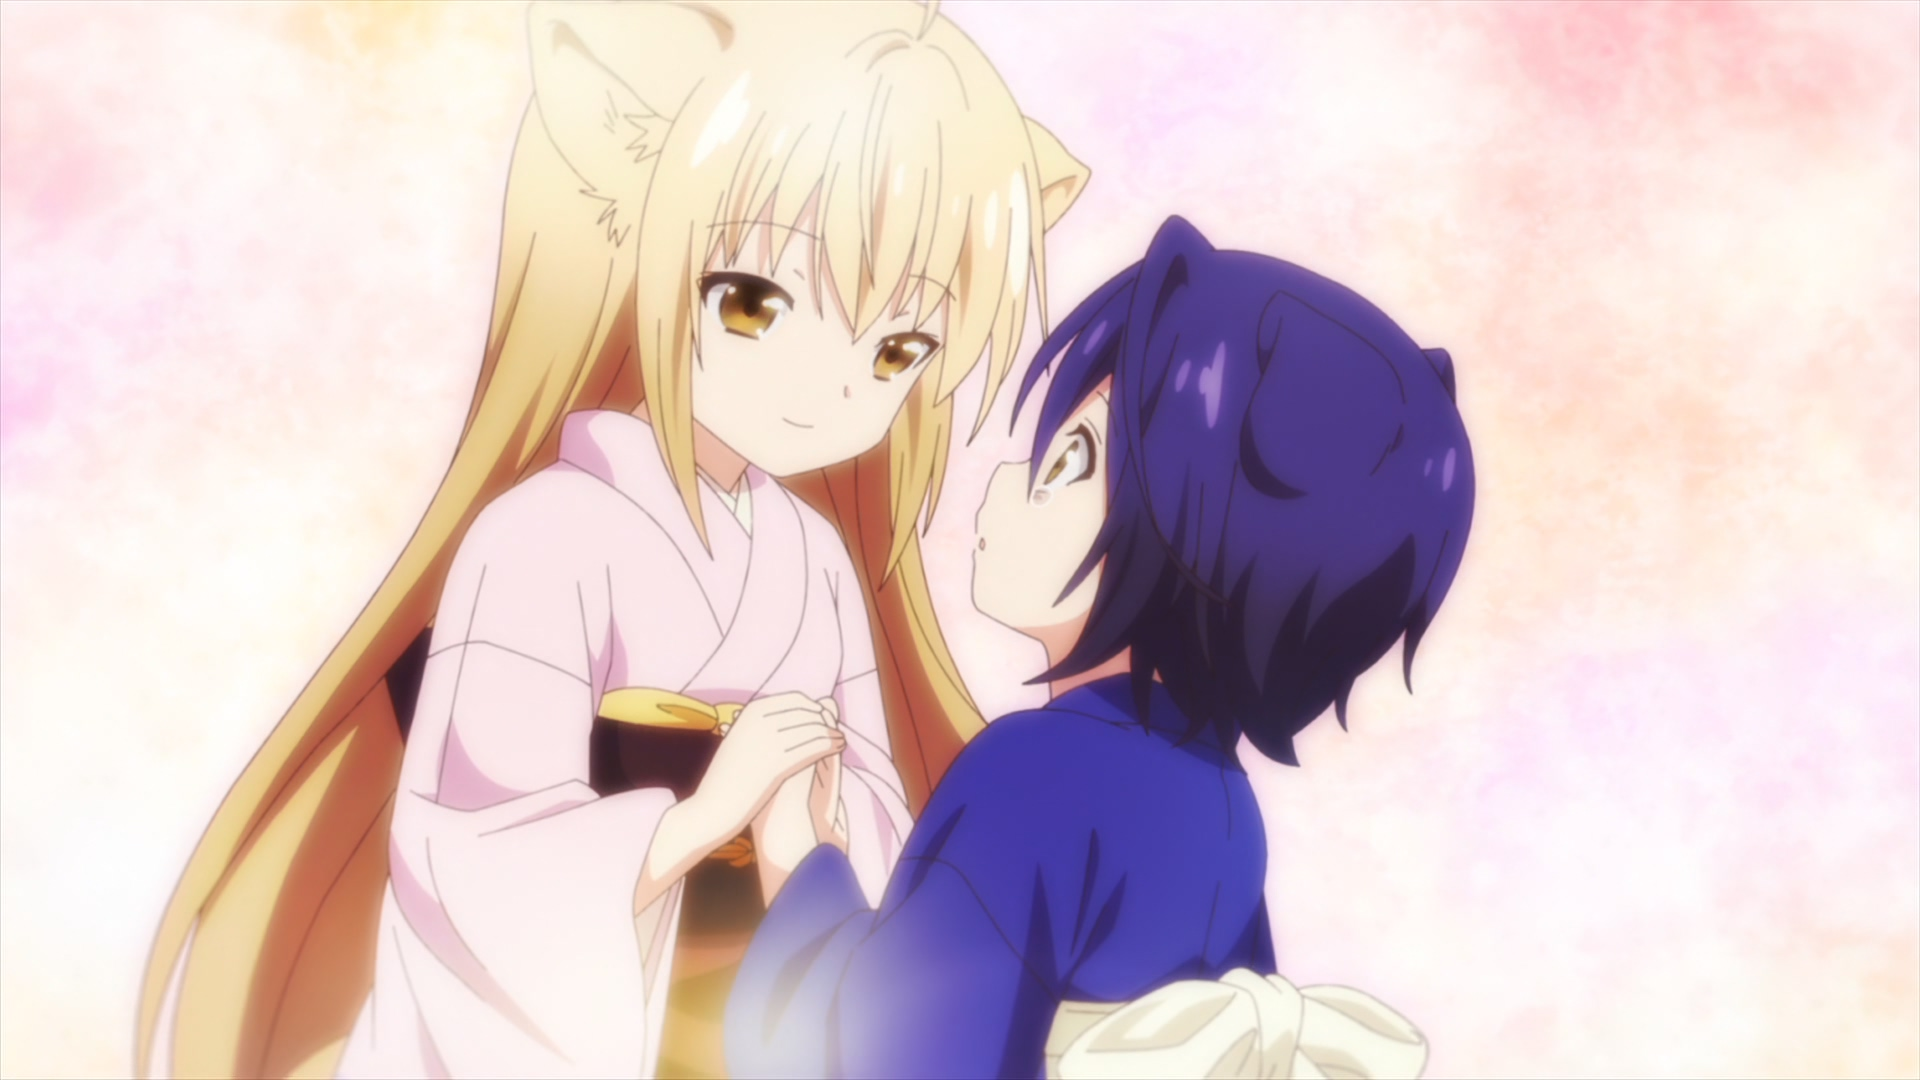柚: (133, 1, 1089, 1080)
皋: (723, 216, 1477, 1080)
